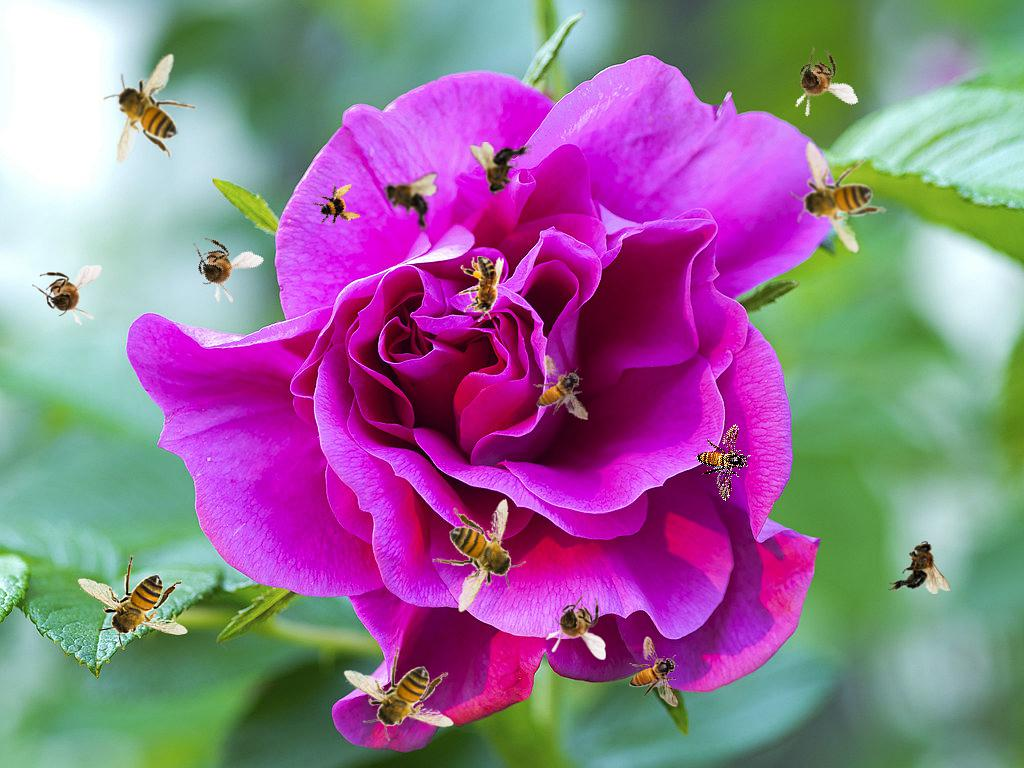Bee: (762, 122, 909, 266), (427, 497, 530, 615), (103, 53, 197, 164), (77, 555, 188, 649), (343, 647, 454, 741), (174, 225, 265, 313), (775, 37, 860, 127), (684, 415, 764, 502), (528, 349, 590, 428), (377, 164, 440, 236), (32, 265, 102, 326), (545, 590, 606, 660), (629, 636, 679, 707), (307, 176, 365, 234), (470, 142, 532, 195), (888, 541, 950, 594), (459, 256, 504, 322)
